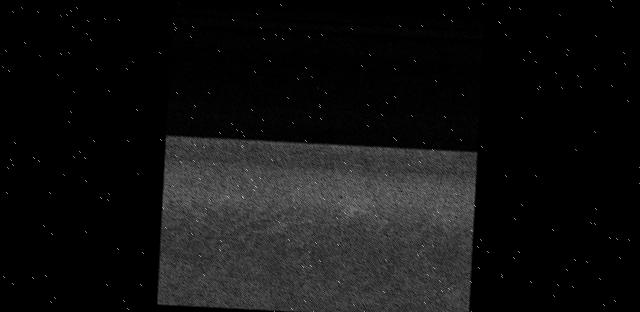silk_spot: (200, 187, 398, 274)
